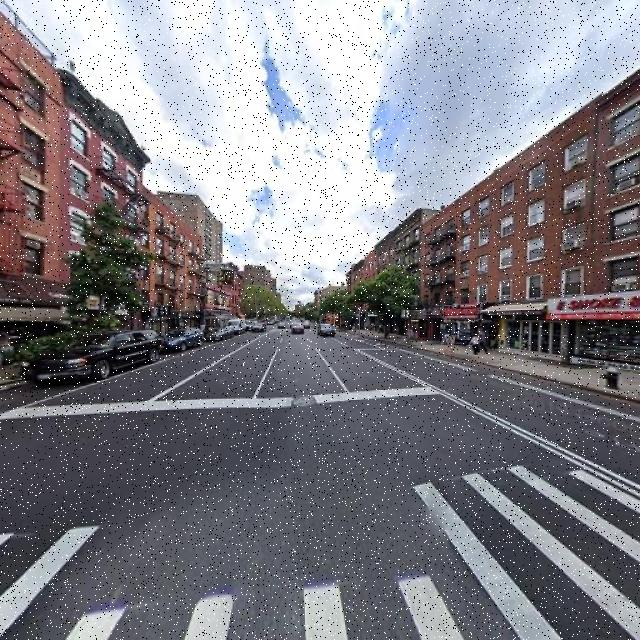Building: (459, 115, 589, 364), (59, 63, 137, 357), (1, 23, 52, 367), (597, 82, 640, 372), (422, 208, 455, 344)
